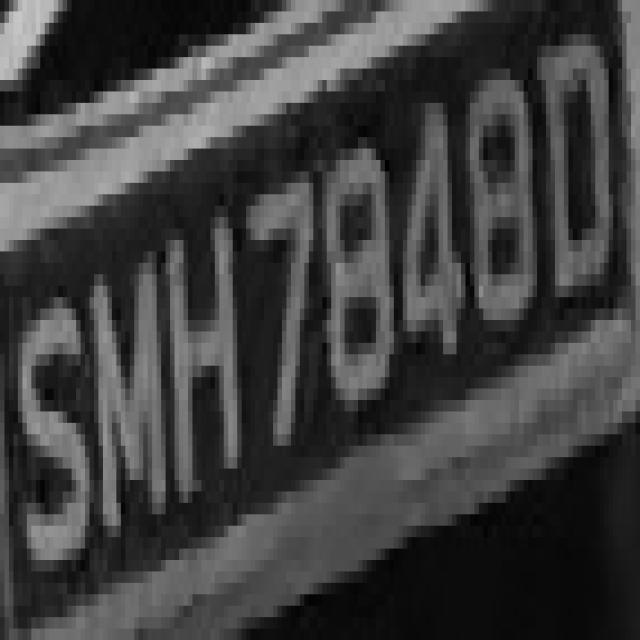4: (385, 80, 465, 389)
7: (233, 148, 313, 492)
8: (452, 57, 546, 366), (313, 126, 394, 446)
D: (537, 11, 618, 332)
H: (157, 217, 246, 503)
M: (90, 206, 174, 571)
S: (5, 286, 99, 594)
